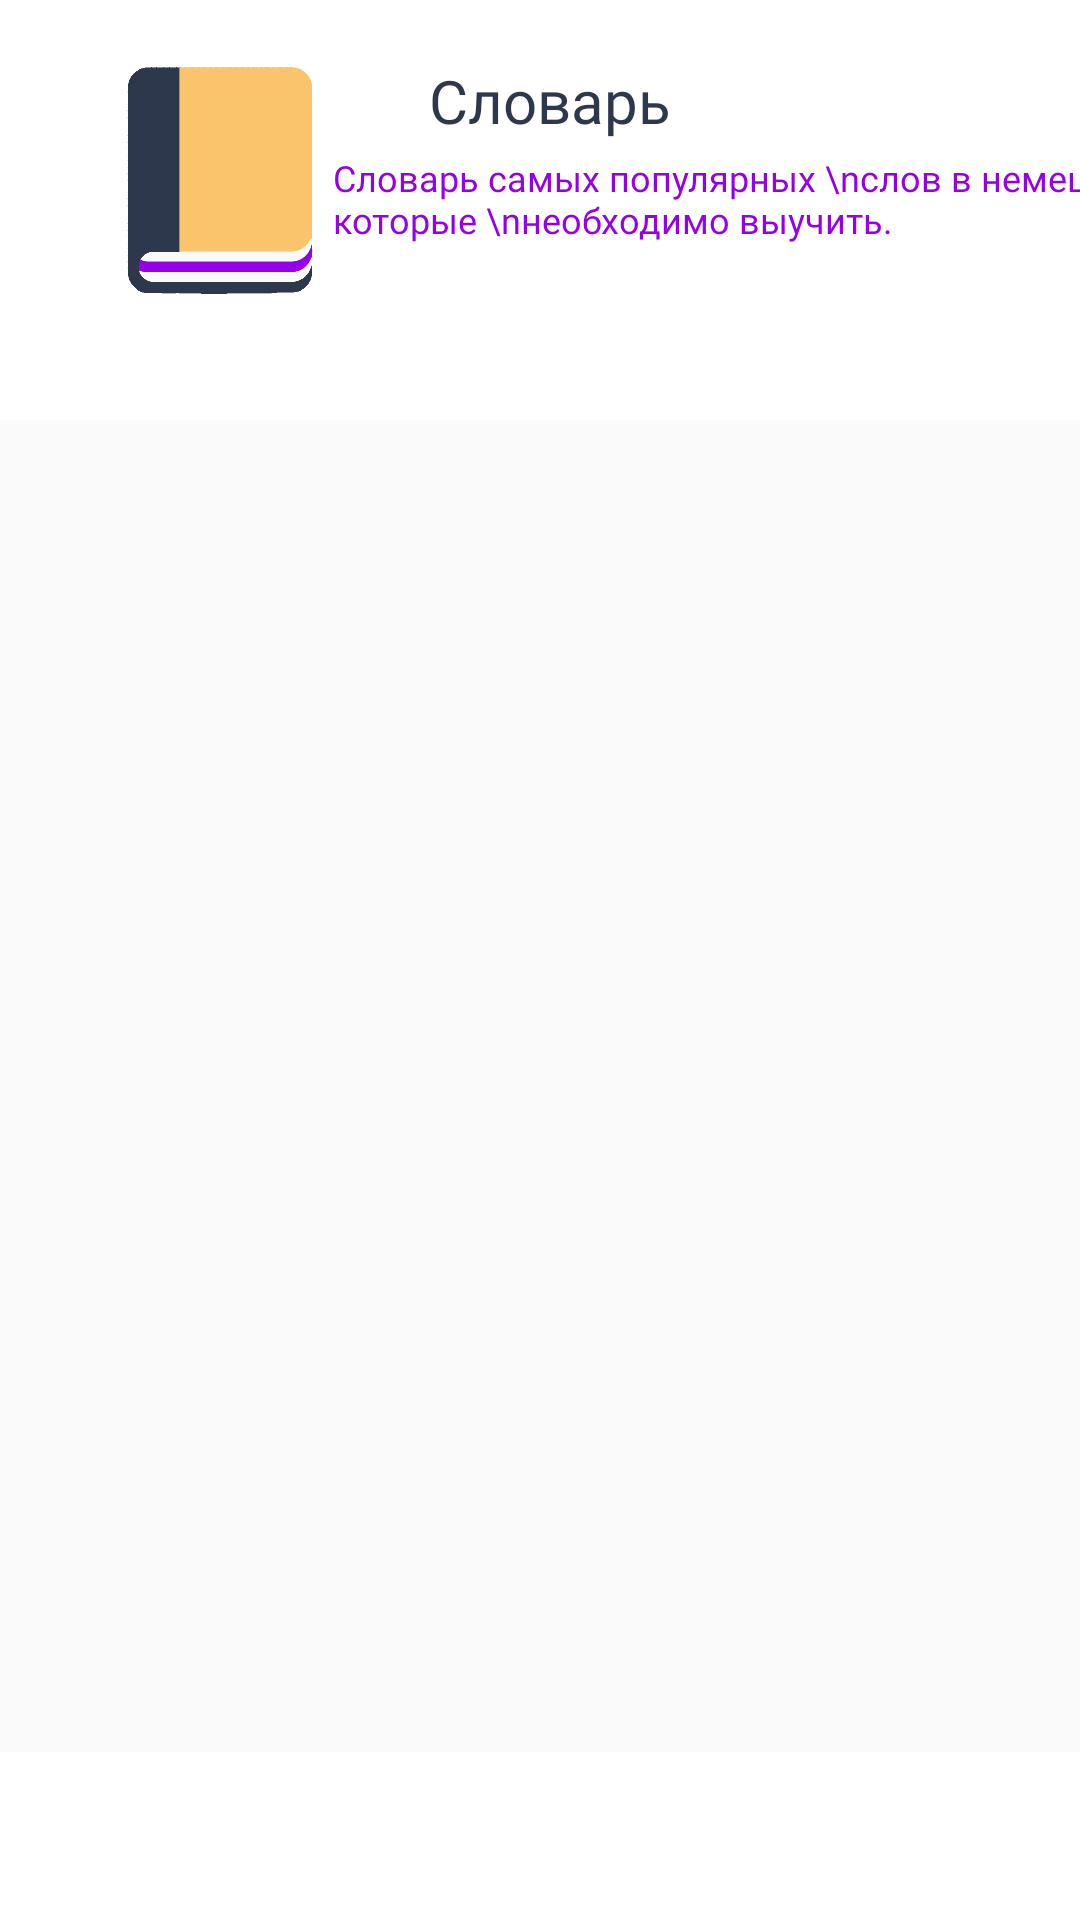

Where to tap for icons on this 1080px x 1920px app screen, as point (x, y):
book: point (261, 180)
